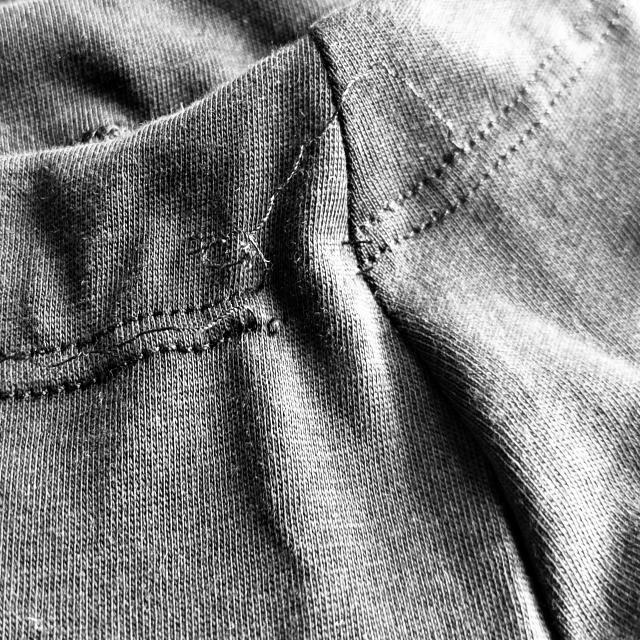Sewing_error: (198, 200, 384, 346)
